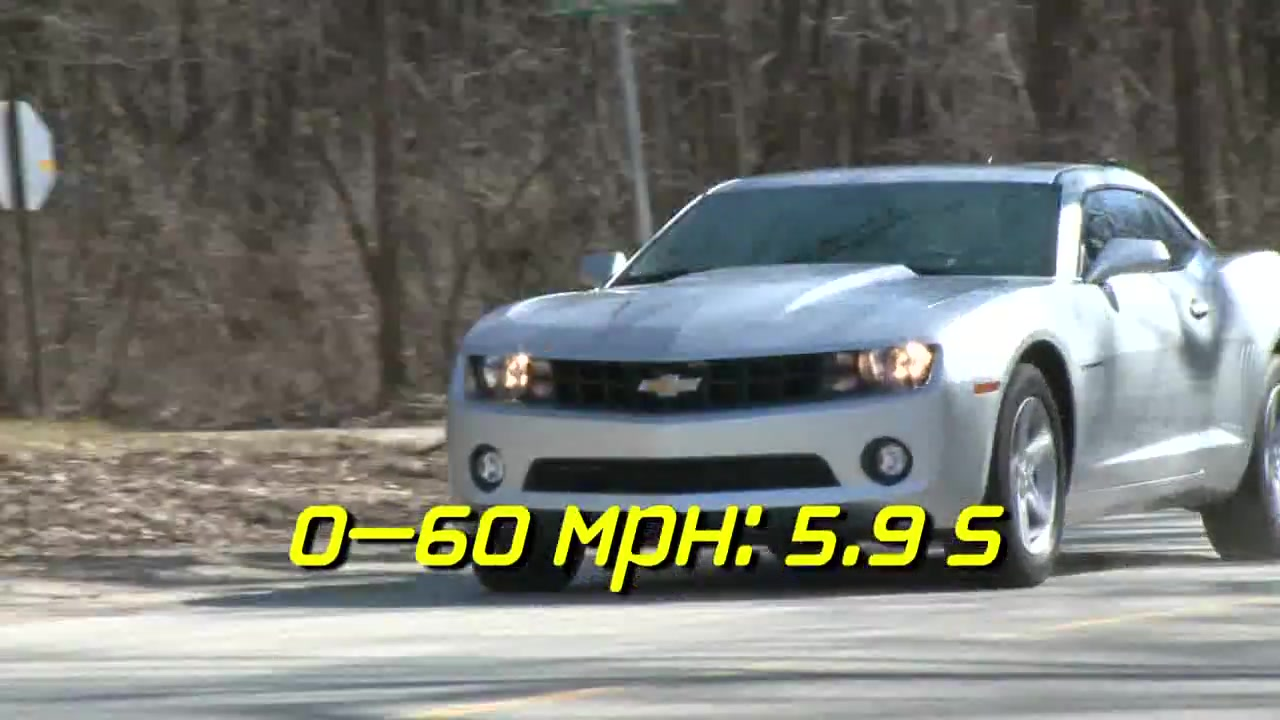car: (445, 155, 1280, 589)
